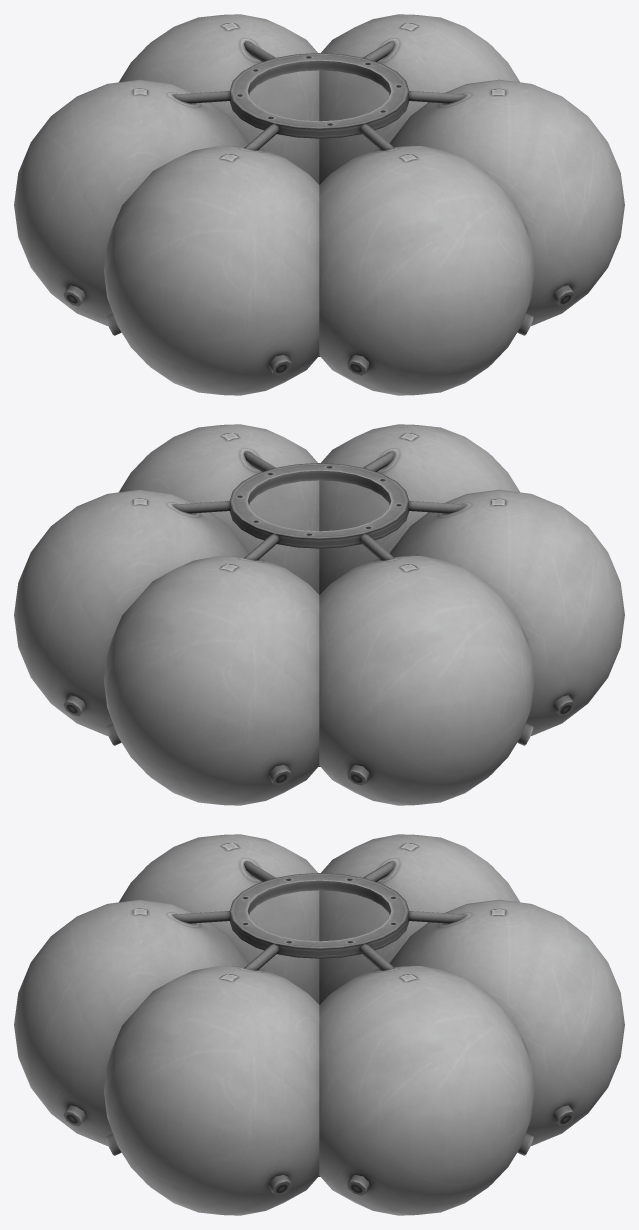
Rendered from tantares_us_fuel_tank_s0_1_2node.obj.
3 renders of one model, top to bottom at view 1: azimuth 30°, elevation 25°; view 2: azimuth 150°, elevation 25°; view 3: azimuth 270°, elevation 25°, orthographic.
Visible parts, largest first — view 1: mesh1; view 2: mesh1; view 3: mesh1.
Part boxes in pixels (box(x1,y1,x2,y2)): mesh1: box(14, 14, 624, 395); mesh1: box(14, 424, 624, 805); mesh1: box(14, 834, 624, 1215).
Bounding box in the file's own units: 1.96 × 0.875 × 2.12.
1 material, 1 textured.
